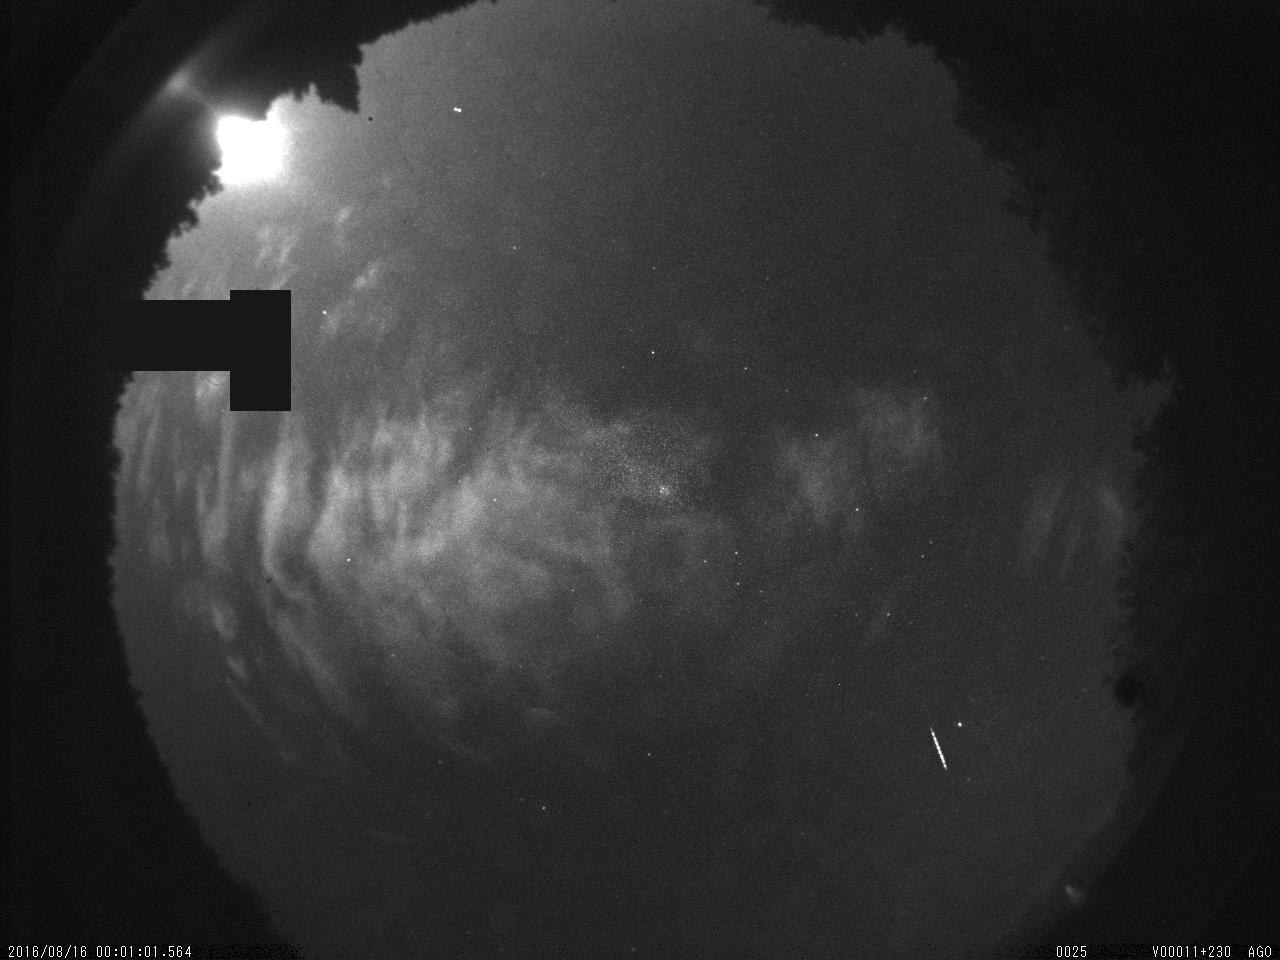meteor: (911, 715, 961, 790)
